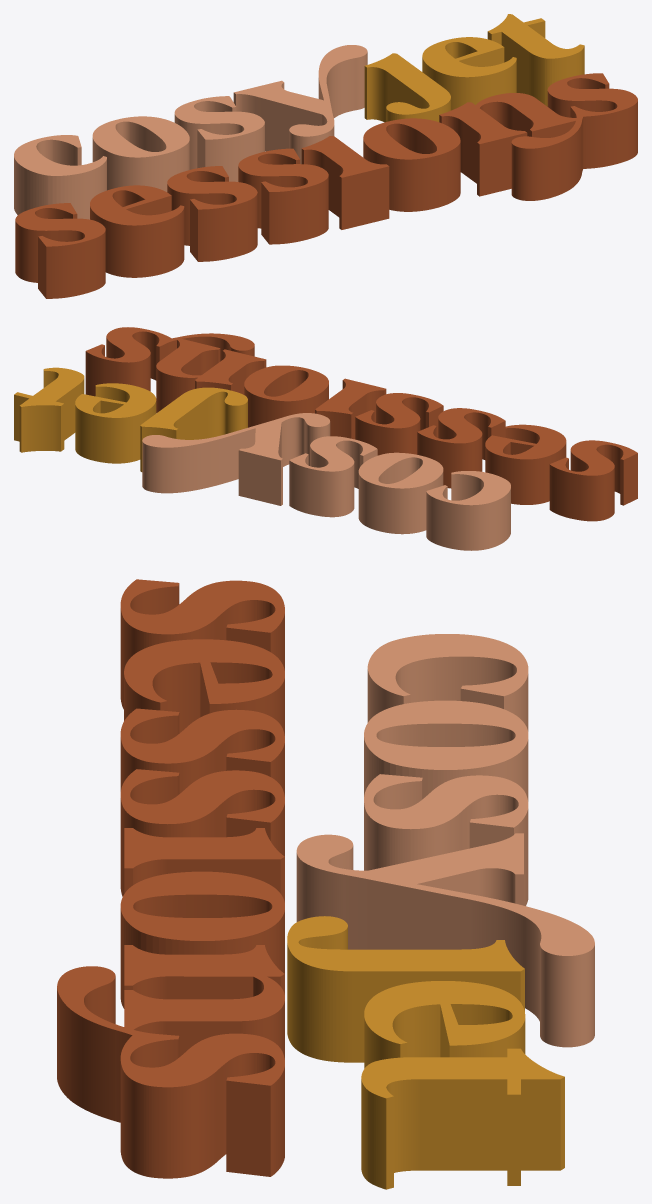
The model's file is cjsTitle3.glb.
3 renders of one model, top to bottom at view 1: azimuth 30°, elevation 25°; view 2: azimuth 150°, elevation 25°; view 3: azimuth 270°, elevation 25°, orthographic. The views are drawn at different scales.
Visible parts, largest first — view 1: fullLogo-14, fullLogo-6, fullLogo-9, fullLogo-12, fullLogo-7, fullLogo-13, fullLogo-8, fullLogo-10, fullLogo-4, fullLogo-3, fullLogo-5, fullLogo-11 (+3 smaller); view 2: fullLogo-6, fullLogo-9, fullLogo-3, fullLogo-4, fullLogo-2, fullLogo-14, fullLogo-5, fullLogo-7, fullLogo-13, fullLogo-15, fullLogo, fullLogo-8 (+3 smaller); view 3: fullLogo-14, fullLogo-6, fullLogo-15, fullLogo, fullLogo-13, fullLogo-12, fullLogo-5, fullLogo-4, fullLogo-2, fullLogo-7, fullLogo-3, fullLogo-10 (+3 smaller).
Boxes of the visible parts, left/top/right/bottom form: fullLogo-14: left=511, top=73, right=637, bottom=200; fullLogo-6: left=233, top=45, right=367, bottom=164; fullLogo-9: left=15, top=203, right=105, bottom=298; fullLogo-12: left=363, top=118, right=460, bottom=211; fullLogo-7: left=90, top=185, right=184, bottom=277; fullLogo-13: left=439, top=93, right=579, bottom=196; fullLogo-8: left=167, top=166, right=257, bottom=261; fullLogo-10: left=238, top=148, right=328, bottom=244; fullLogo-4: left=92, top=116, right=189, bottom=191; fullLogo-3: left=14, top=135, right=106, bottom=219; fullLogo-5: left=174, top=96, right=264, bottom=181; fullLogo-11: left=301, top=136, right=389, bottom=229; fullLogo-6: left=142, top=413, right=330, bottom=505; fullLogo-9: left=549, top=440, right=637, bottom=521; fullLogo-3: left=426, top=471, right=510, bottom=550; fullLogo-4: left=358, top=452, right=443, bottom=534; fullLogo-2: left=75, top=383, right=156, bottom=463; fullLogo-14: left=85, top=327, right=254, bottom=396; fullLogo-5: left=289, top=436, right=377, bottom=517; fullLogo-7: left=485, top=424, right=566, bottom=504; fullLogo-13: left=156, top=338, right=266, bottom=412; fullLogo-15: left=14, top=367, right=84, bottom=452; fullLogo: left=140, top=387, right=247, bottom=471; fullLogo-8: left=417, top=408, right=505, bottom=488; fullLogo-14: left=57, top=966, right=284, bottom=1178; fullLogo-6: left=296, top=833, right=594, bottom=1047; fullLogo-15: left=361, top=1048, right=564, bottom=1189; fullLogo: left=287, top=916, right=524, bottom=1062; fullLogo-13: left=124, top=945, right=284, bottom=1059; fullLogo-12: left=120, top=871, right=284, bottom=1008; fullLogo-5: left=364, top=774, right=528, bottom=905; fullLogo-4: left=364, top=700, right=528, bottom=801; fullLogo-2: left=364, top=981, right=525, bottom=1068; fullLogo-7: left=124, top=639, right=284, bottom=735; fullLogo-3: left=367, top=634, right=528, bottom=731; fullLogo-10: left=120, top=769, right=284, bottom=896.
Bounding box in the file's own units: 5.2 × 0.4267 × 2.28.
